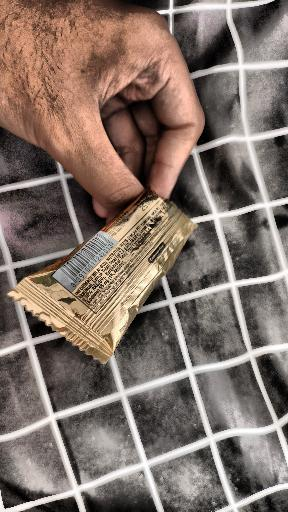top: (11, 189, 153, 411)
